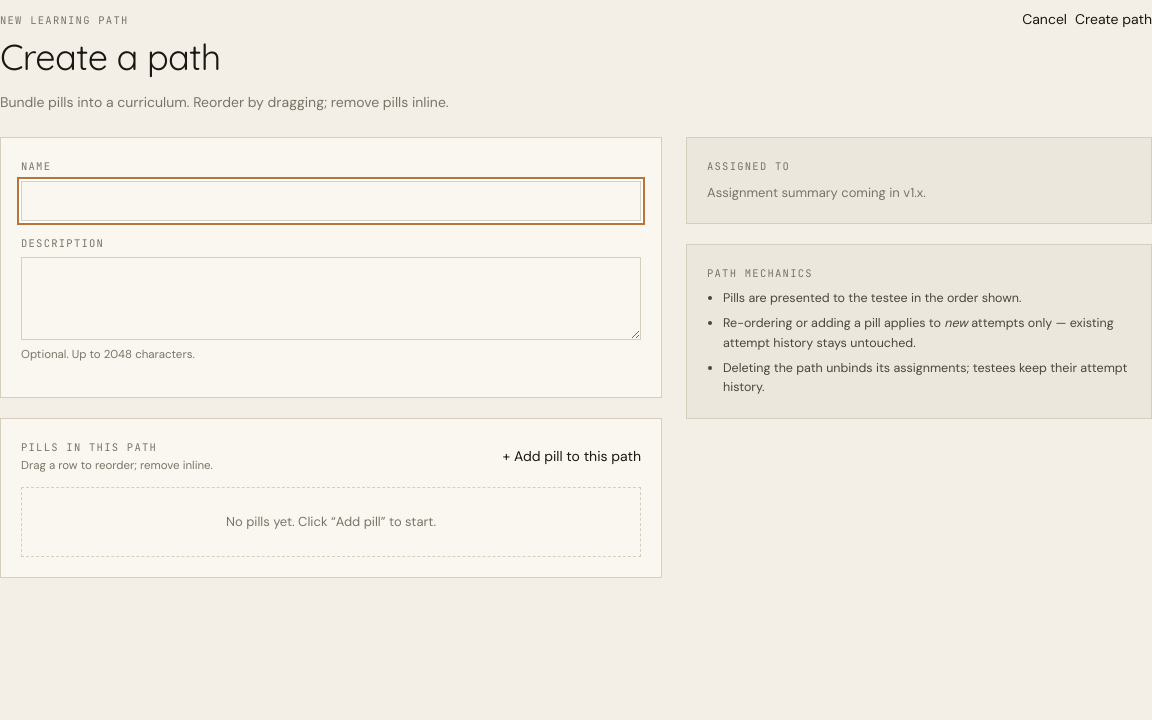
Scenario: path editor — 422 projection on save › projects field errors via applyApiErrorToForm
The width and height of the screenshot is (1152, 720).
Step 1. Type "Welding" into the field with test id "path-editor-name" → (331, 200), box [21,180,641,220]
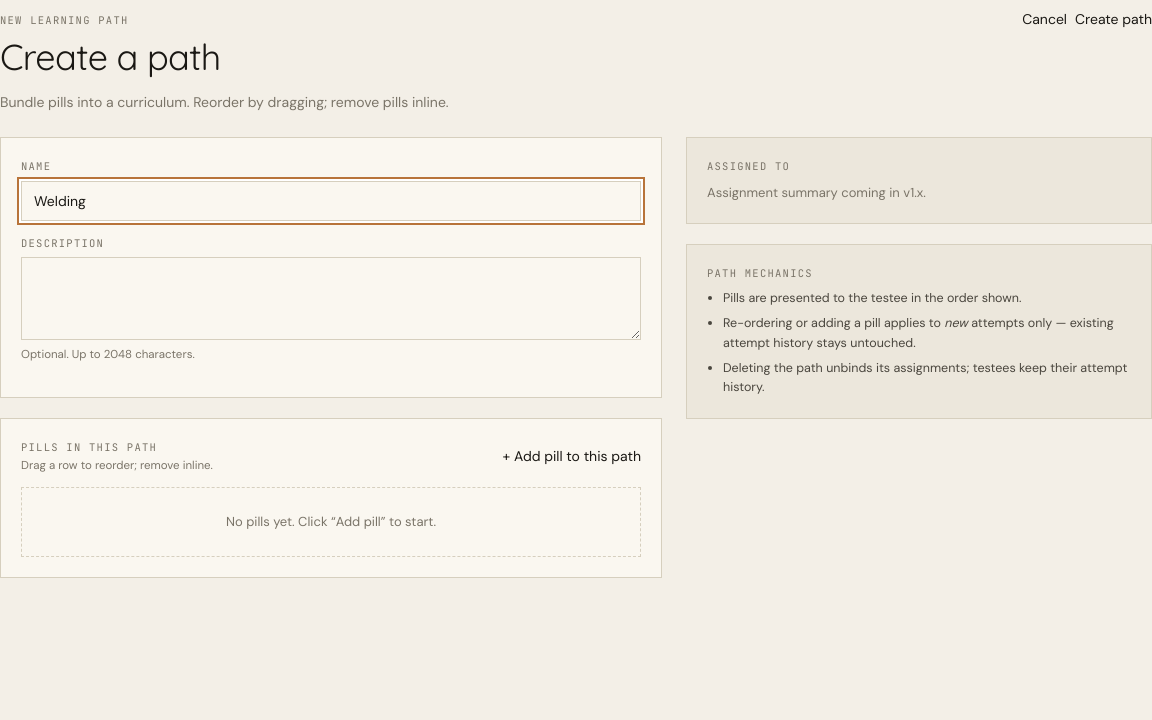
Step 2. Click the button with test id "path-editor-add-pill" → (572, 457), box [503,439,641,475]
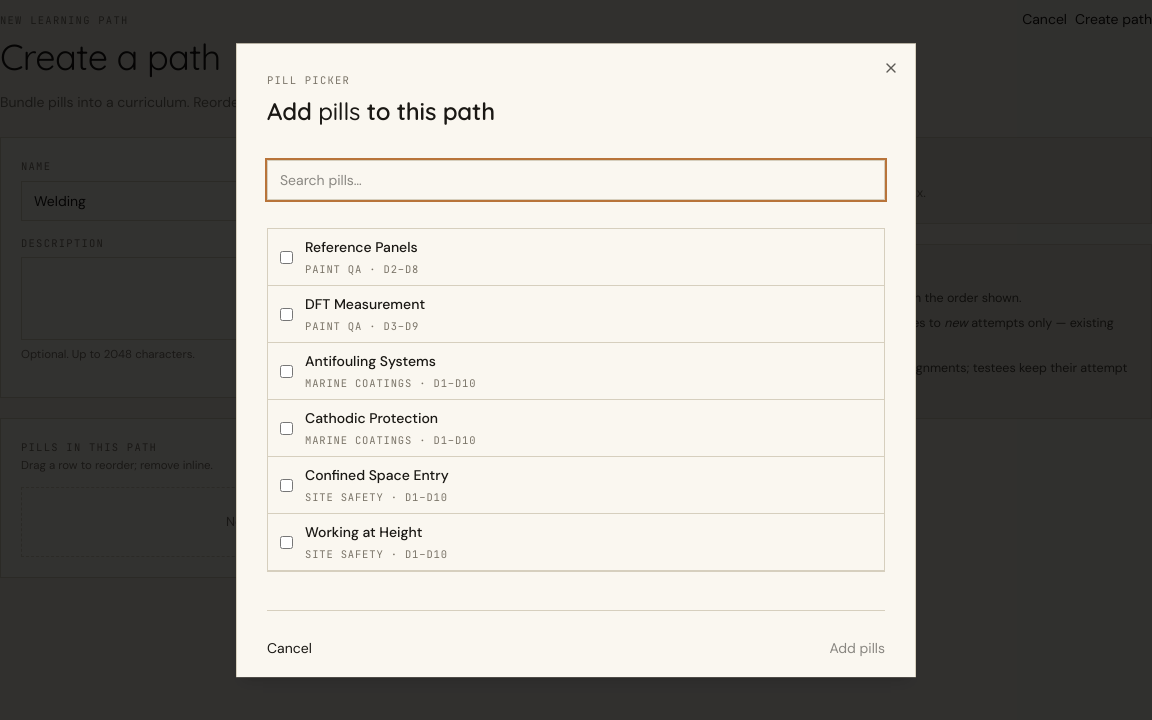
Check: the element with test id "picker-list" is shown, box [267,228,885,572]
Step 3. Click the list item "Reference Panels Paint QA · D2–D8" → (576, 258), box [268,230,884,286]
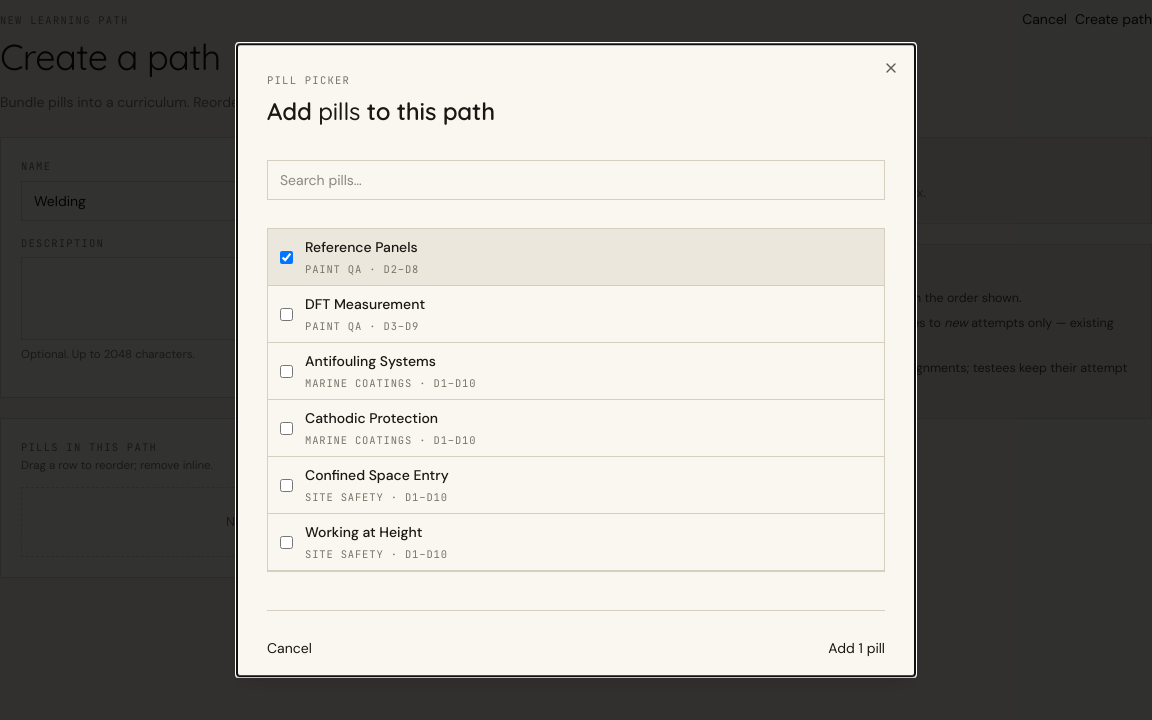
Step 4. Click the button with test id "picker-add" → (857, 649), box [828,629,885,669]
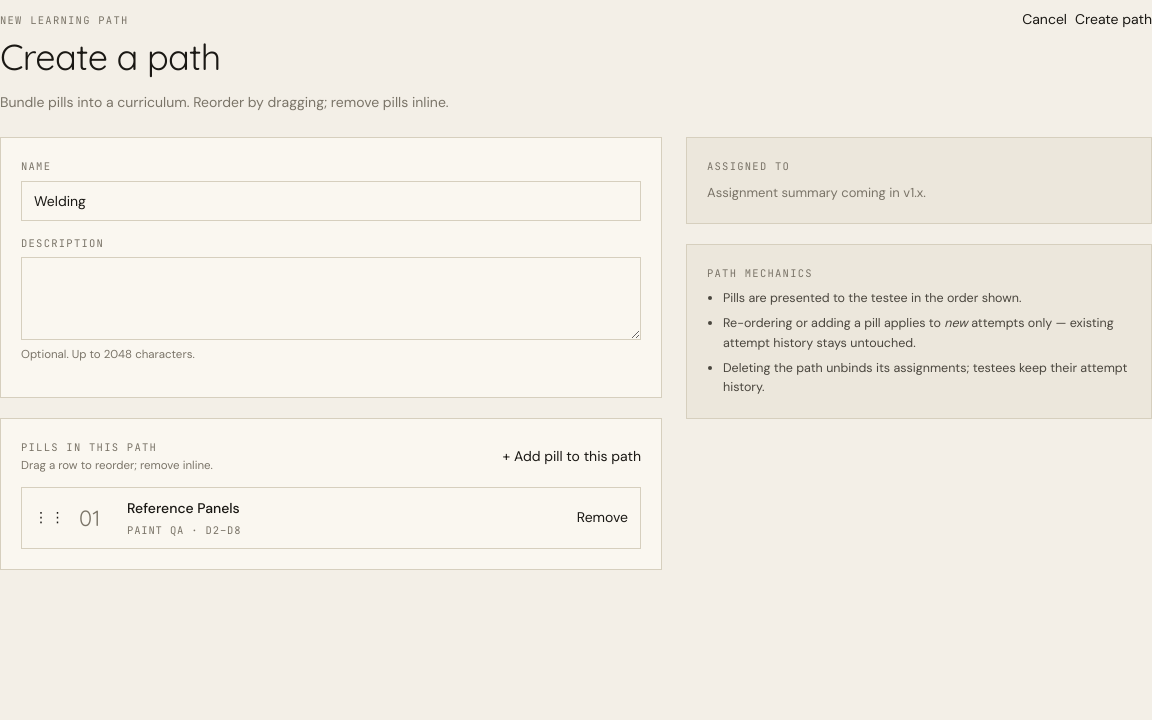
Check: the list item with test id "path-editor-pill-row-1" is shown, box [21,487,641,549]
Step 5. Click the button with test id "path-editor-save" → (1114, 20), box [1075,0,1151,40]
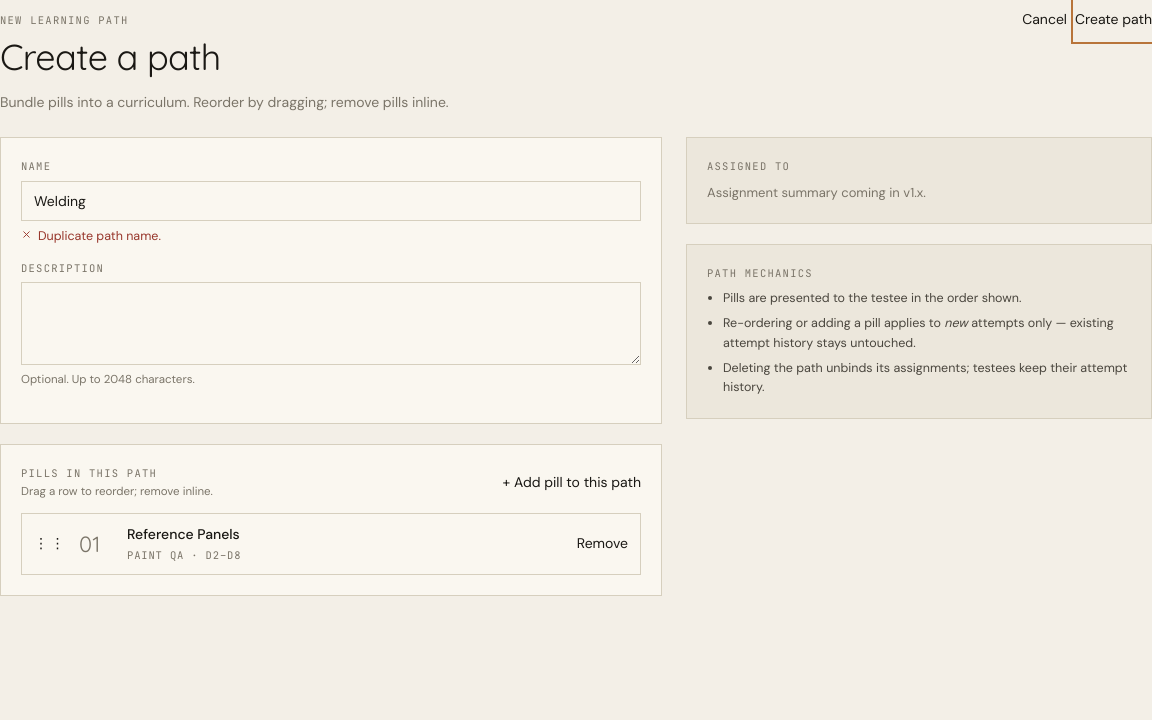
Check: the text "Duplicate path name." is shown, box [38,226,161,246]
